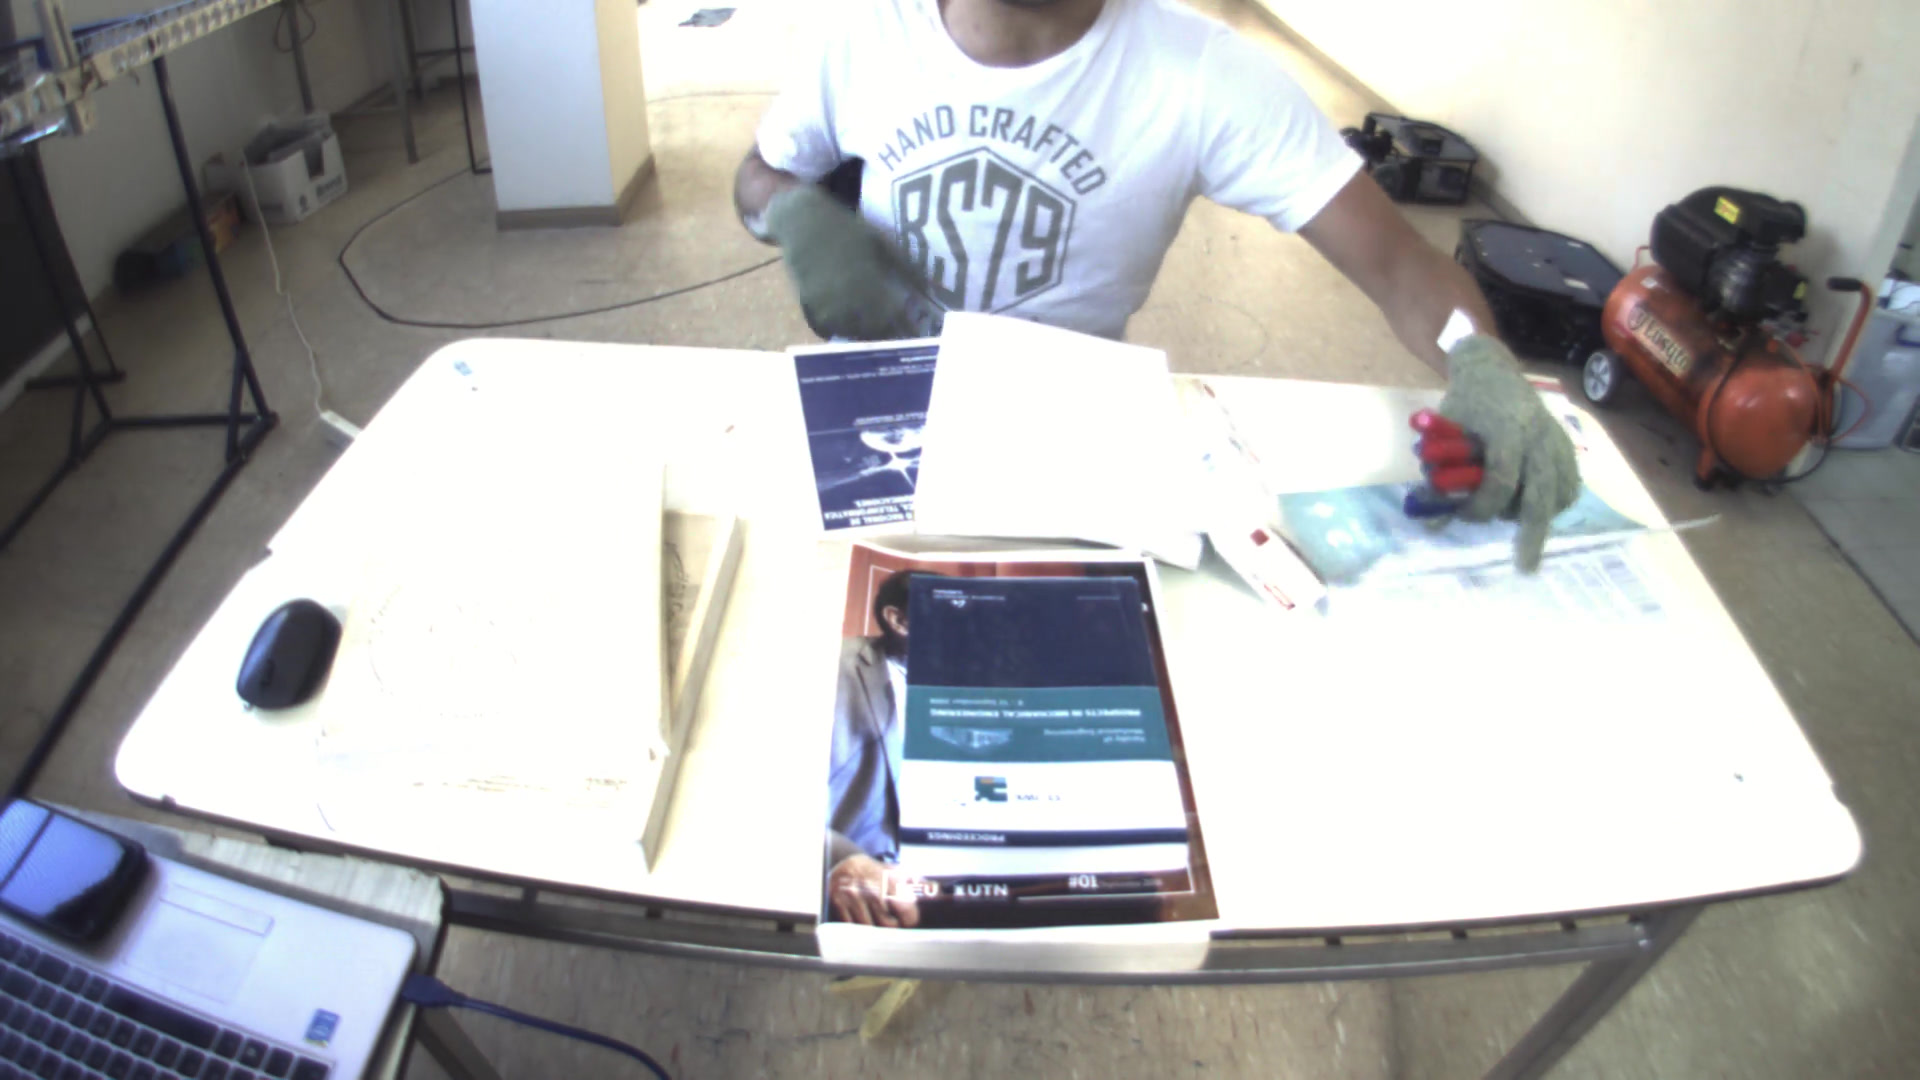hand: (1422, 320, 1597, 574), (742, 165, 957, 345)
